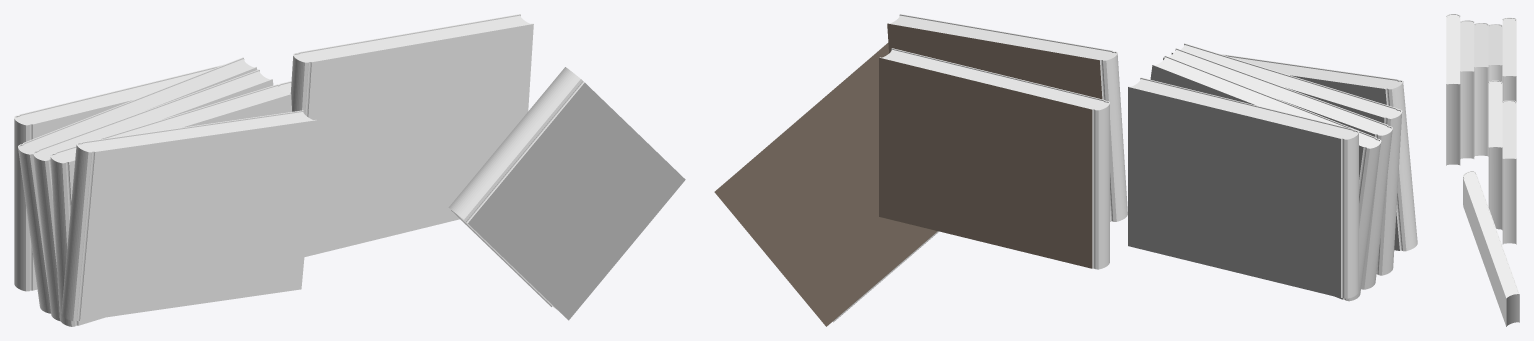
3 views of the same model, side by side, from view 1: azimuth 30°, elevation 25°; view 2: azimuth 150°, elevation 25°; view 3: azimuth 270°, elevation 25° (orthographic). The views are drawn at different scales.
Parts seen in each view (by area): view 1: coffee table books; view 2: coffee table books; view 3: coffee table books.
Part boxes in pixels (x1,y1,x2,y2): coffee table books: (14,14,685,326); coffee table books: (714,14,1417,326); coffee table books: (1446,14,1519,326).
Bounding box in the file's own units: 43.05 × 21.1 × 7.82.
